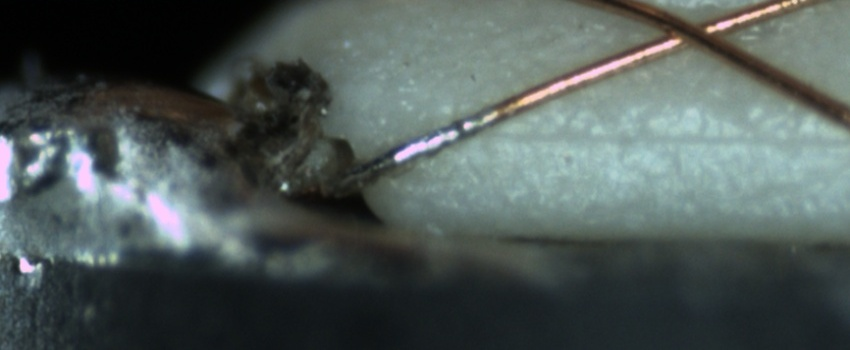CL: (631, 3, 748, 59)
DL: (419, 104, 850, 172)
TS: (314, 105, 496, 203)
